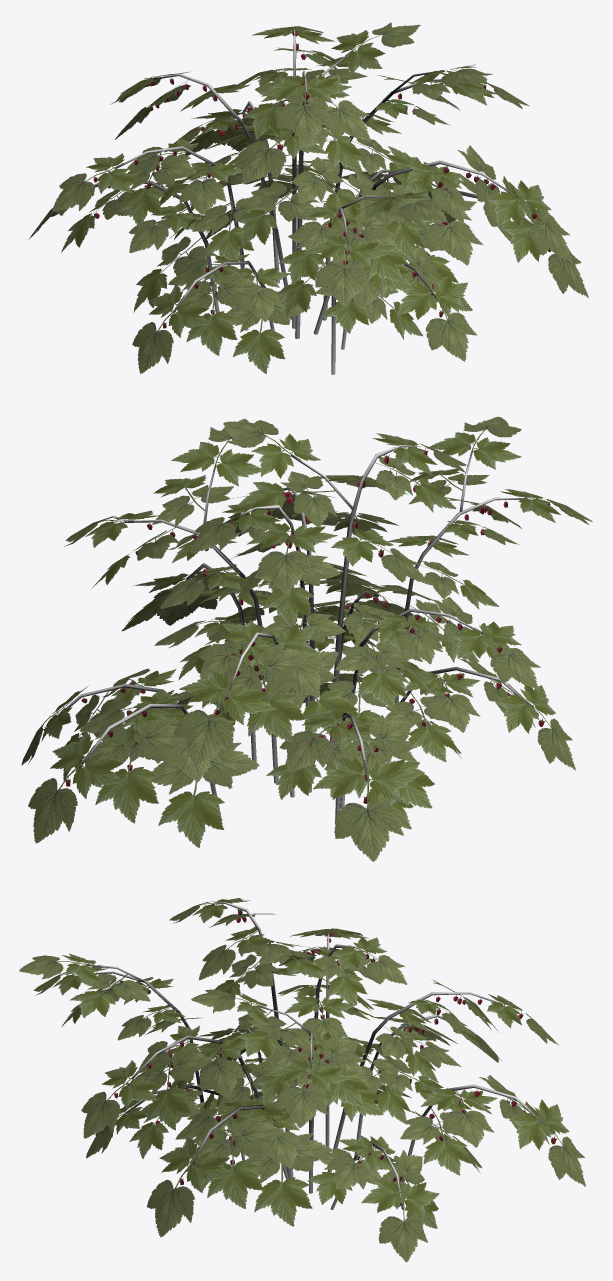
Rendered from PW_Plants_Berry_Bushes_01.fbx.
3 renders of one model, top to bottom at view 1: azimuth 30°, elevation 25°; view 2: azimuth 150°, elevation 25°; view 3: azimuth 270°, elevation 25°, orthographic. The views are drawn at different scales.
Visible parts, largest first — view 1: PW_Plants_Berry_Bushes_01_LOD0; view 2: PW_Plants_Berry_Bushes_01_LOD0; view 3: PW_Plants_Berry_Bushes_01_LOD0.
Boxes of the visible parts, box(x1,y1,x2,y2) form: PW_Plants_Berry_Bushes_01_LOD0: box(28, 22, 588, 374); PW_Plants_Berry_Bushes_01_LOD0: box(21, 416, 592, 861); PW_Plants_Berry_Bushes_01_LOD0: box(19, 898, 585, 1262).
Size of what is drawn, in the model's own units: 181 by 112 by 220.
Materials: 2 (1 with a texture image).
